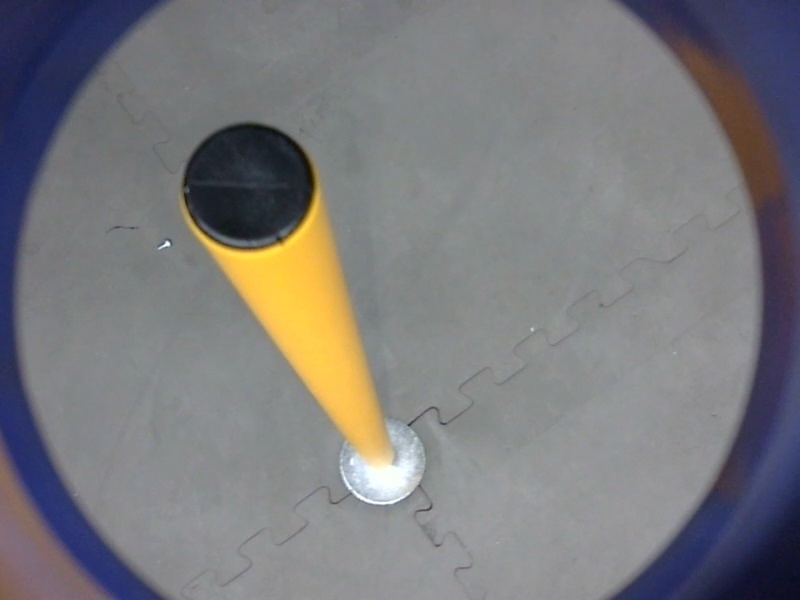tip: (169, 114, 330, 265)
